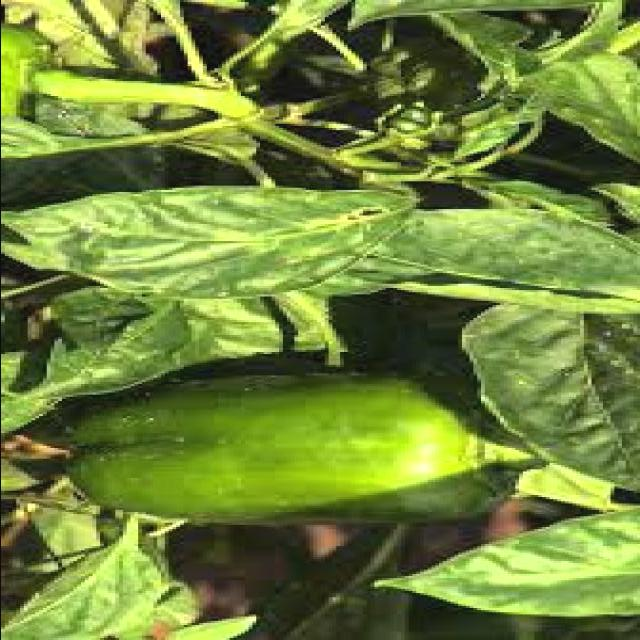bell_pepper: (36, 372, 519, 542)
